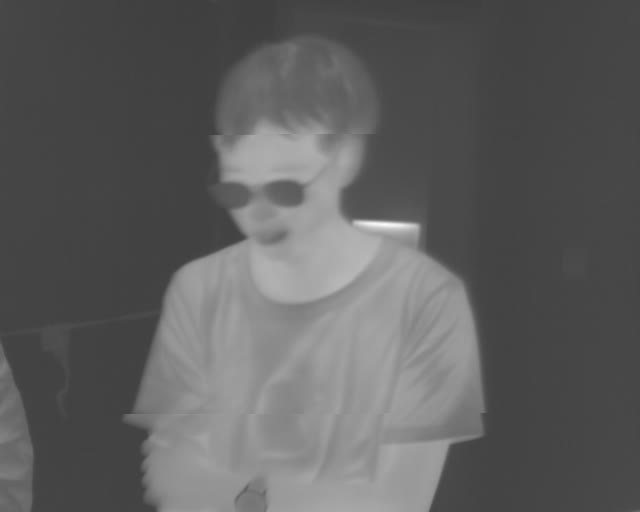face: (207, 34, 381, 262)
